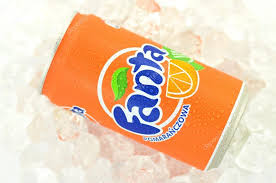fanta: (50, 13, 243, 168)
